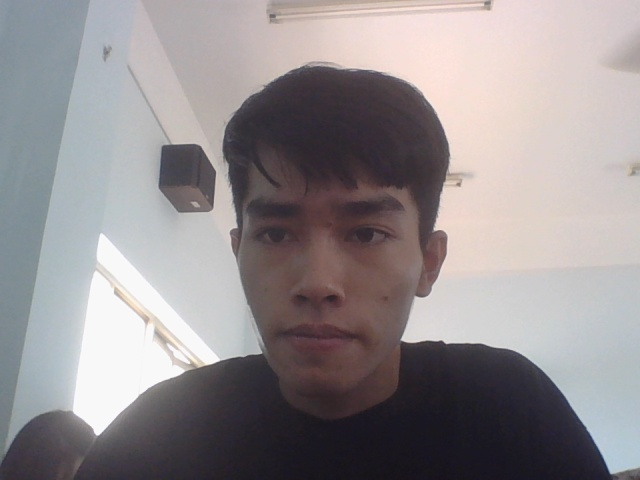real: (198, 39, 468, 421)
